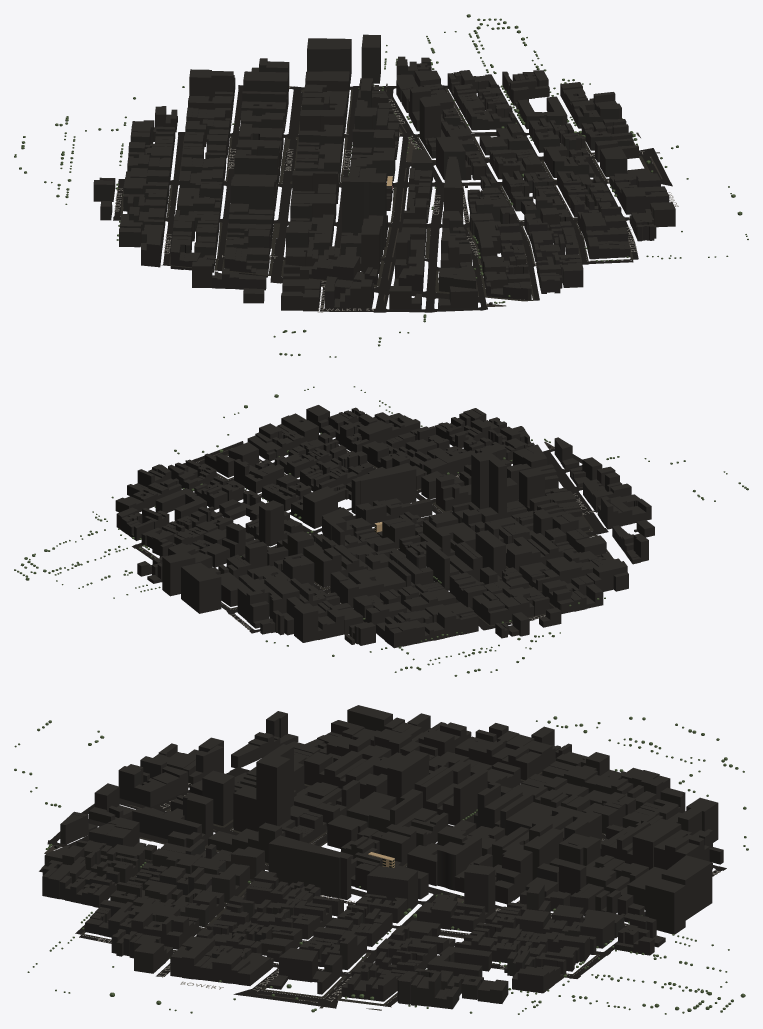
File: lafayette_188.glb
The picture shows the model from 3 angles, top to bottom: view 1: azimuth 30°, elevation 25°; view 2: azimuth 150°, elevation 25°; view 3: azimuth 270°, elevation 25°; orthographic projection. The views are drawn at different scales.
Parts seen in each view (by area): view 1: SOHO_MASSING, ROADBED, SIDEWALK, TREES; view 2: SOHO_MASSING, ROADBED, TREES, SIDEWALK; view 3: SOHO_MASSING, ROADBED, TREES, SIDEWALK.
Part boxes in pixels (x1,y1,x2,y2): SOHO_MASSING: [93, 34, 675, 311]; ROADBED: [113, 84, 672, 312]; SIDEWALK: [120, 87, 659, 301]; TREES: [14, 14, 748, 357]; SOHO_MASSING: [115, 405, 654, 648]; ROADBED: [132, 438, 608, 633]; TREES: [14, 386, 748, 676]; SIDEWALK: [139, 441, 608, 626]; SOHO_MASSING: [42, 705, 723, 1009]; ROADBED: [39, 752, 726, 1008]; TREES: [14, 716, 748, 1014]; SIDEWALK: [41, 772, 645, 1008].
Size of what is drawn, in the model's own units: 841 by 107 by 886.
